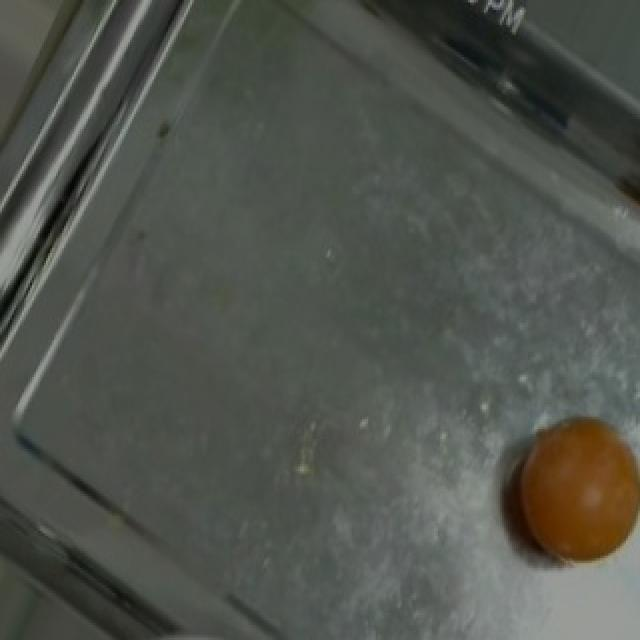Fruit: (496, 402, 638, 578)
